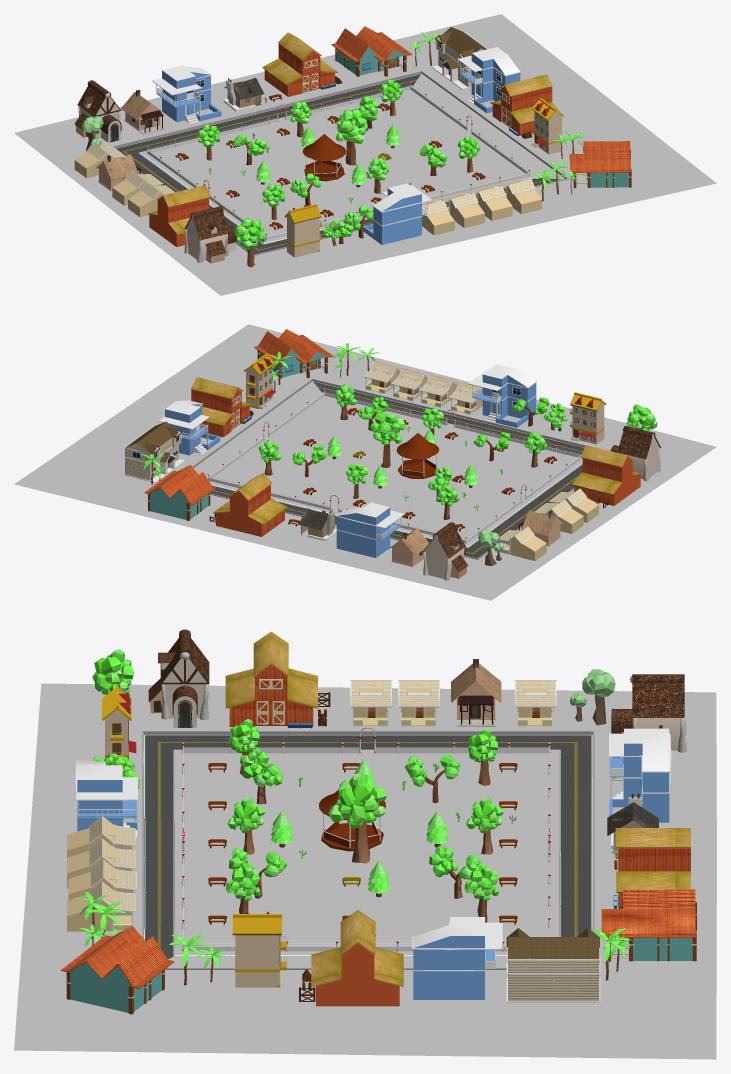
The model's file is dog set.fbx.
The picture shows the model from 3 angles, top to bottom: view 1: azimuth 30°, elevation 25°; view 2: azimuth 150°, elevation 25°; view 3: azimuth 270°, elevation 25°; orthographic projection. The views are drawn at different scales.
Visible parts, largest first — view 1: polySurface676, park_center_house:polySurface999, polySurface581, polySurface1108, polySurface585, park_center_house:polySurface1020, polySurface583, polySurface1227, polySurface675, polySurface587, park_center_house:polySurface1016, polySurface1228 (+8 smaller); view 2: polySurface676, polySurface581, park_center_house:polySurface999, polySurface1108, polySurface583, park_center_house:polySurface1020, polySurface1227, polySurface585, polySurface675, polySurface587, park_center_house:polySurface1016, polySurface1109 (+8 smaller); view 3: polySurface676, polySurface581, park_center_house:polySurface999, polySurface1108, polySurface583, park_center_house:polySurface1020, polySurface585, polySurface675, polySurface1227, polySurface587, polySurface759, polySurface578 (+11 smaller).
Part boxes in pixels (x1,y1,x2,y2): polySurface676: (164, 96, 508, 232); park_center_house:polySurface999: (74, 26, 632, 235); polySurface581: (423, 14, 716, 183); polySurface1108: (152, 47, 563, 257); polySurface585: (221, 179, 716, 295); park_center_house:polySurface1020: (197, 31, 584, 267); polySurface583: (15, 14, 500, 146); polySurface1227: (74, 80, 237, 263); polySurface675: (140, 85, 536, 243); polySurface587: (14, 133, 247, 295); park_center_house:polySurface1016: (175, 77, 485, 229); polySurface1228: (262, 32, 342, 96); polySurface676: (227, 403, 563, 535); polySurface581: (14, 324, 311, 484); park_center_house:polySurface999: (144, 329, 598, 560); polySurface1108: (159, 353, 606, 557); polySurface583: (14, 484, 490, 600); park_center_house:polySurface1020: (140, 343, 657, 519); polySurface1227: (388, 425, 661, 580); polySurface585: (249, 324, 716, 451); polySurface675: (206, 392, 582, 546); polySurface587: (478, 447, 716, 600); park_center_house:polySurface1016: (288, 408, 556, 540); polySurface1109: (571, 445, 641, 508); polySurface676: (202, 762, 535, 940); polySurface581: (14, 970, 715, 1059); park_center_house:polySurface999: (61, 680, 697, 1014); polySurface1108: (75, 685, 671, 999); polySurface583: (592, 692, 716, 1058); park_center_house:polySurface1020: (75, 649, 630, 985); polySurface585: (14, 683, 143, 1050); polySurface675: (175, 749, 559, 955); polySurface1227: (148, 629, 686, 780); polySurface587: (42, 683, 715, 732); polySurface759: (299, 910, 403, 1006); polySurface578: (559, 735, 592, 936).
Bounding box in the file's own units: 392 × 41.39 × 310.
